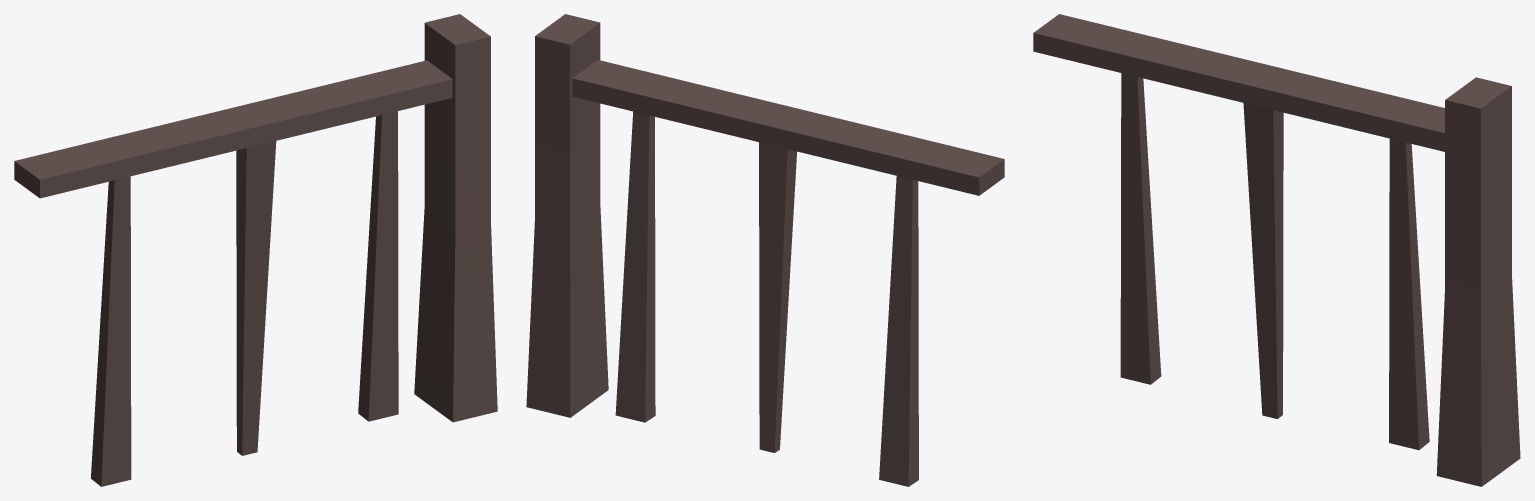
Rendered from Module_Building_Rail_Corner_L.fbx.
The picture shows the model from 3 angles, left to right: view 1: azimuth 30°, elevation 25°; view 2: azimuth 150°, elevation 25°; view 3: azimuth 330°, elevation 25°; orthographic projection.
Parts seen in each view (by area): view 1: Module_Building_Rail_Corner_L; view 2: Module_Building_Rail_Corner_L; view 3: Module_Building_Rail_Corner_L.
Part boxes in pixels (box(x1,y1,x2,y2)): Module_Building_Rail_Corner_L: box(14, 14, 497, 486); Module_Building_Rail_Corner_L: box(526, 14, 1004, 486); Module_Building_Rail_Corner_L: box(1033, 14, 1520, 486).
Size of the model in its own units: 101 by 80.18 by 15.06.
